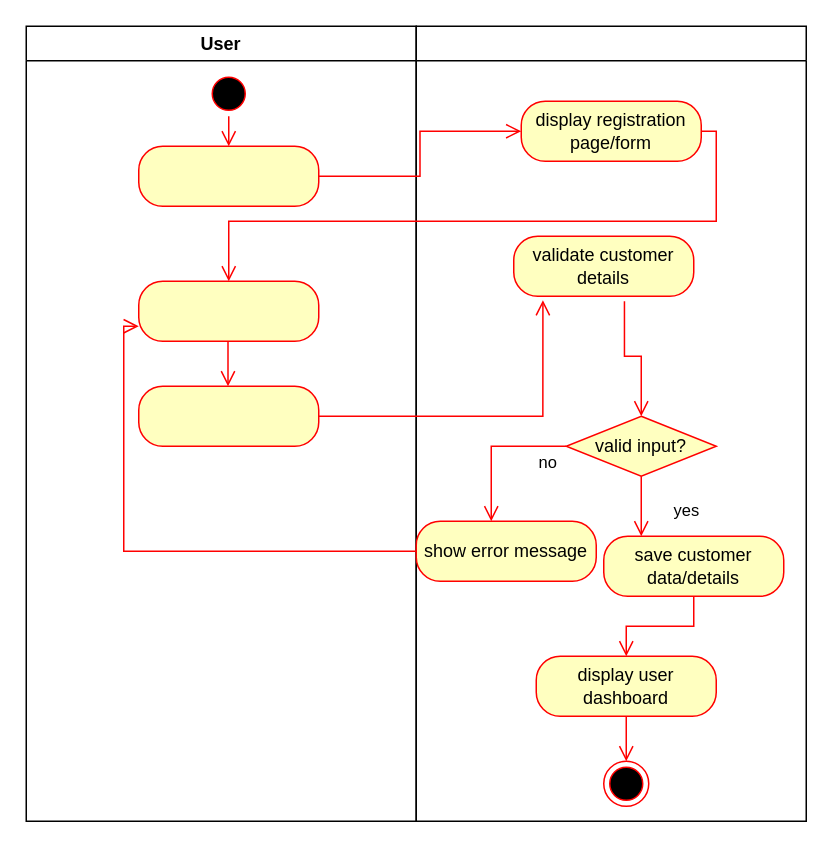
This 833x848 diagram has some shape labels left out. The shapes that lost their labels are listed below. From the top down, each one's box as (x1, y1, x2, y2) in pixels, then its label:
(137, 145, 319, 206): open account registration page
(137, 280, 319, 341): enter details
(137, 385, 319, 446): submit details
(415, 25, 806, 821): System
